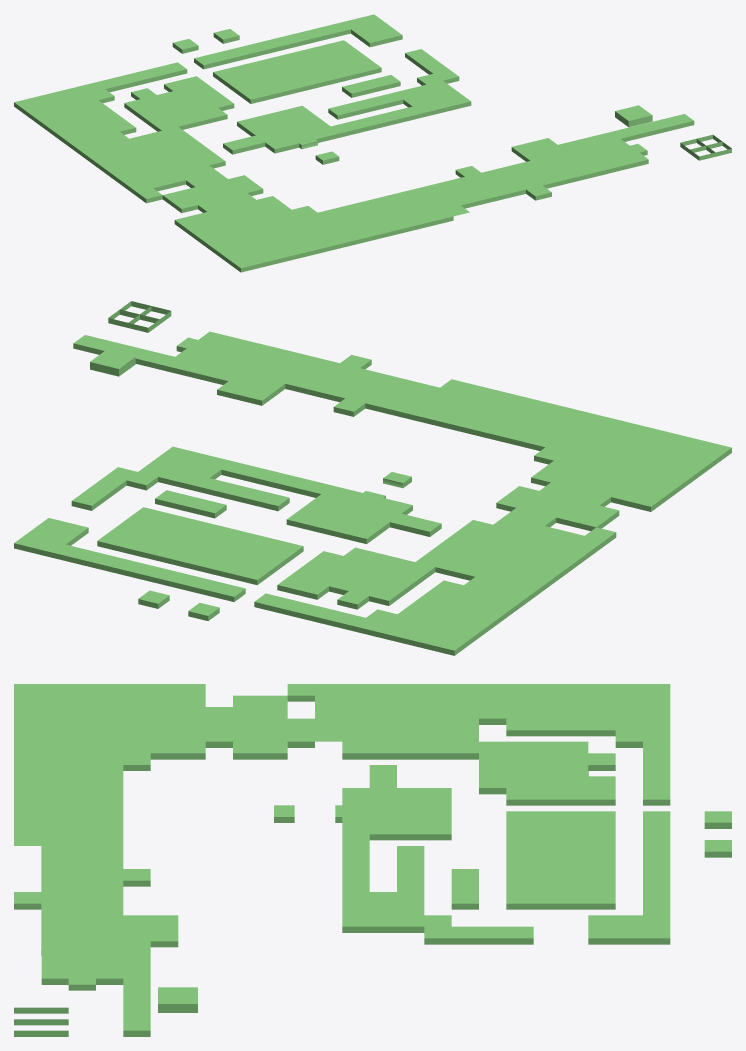
File: object_35_lev1_lev2.glb
3 views of the same model, one above another, from view 1: azimuth 30°, elevation 25°; view 2: azimuth 150°, elevation 25°; view 3: azimuth 270°, elevation 25° (orthographic). The views are drawn at different scales.
Parts seen in each view (by area): view 1: object_35_lev1_lev2; view 2: object_35_lev1_lev2; view 3: object_35_lev1_lev2.
Boxes of the visible parts, bbox=[...] form: object_35_lev1_lev2: bbox=[14, 14, 731, 272]; object_35_lev1_lev2: bbox=[14, 301, 731, 655]; object_35_lev1_lev2: bbox=[14, 684, 731, 1036].
Size of the model in its own units: 74.42 by 1.19 by 65.13.
